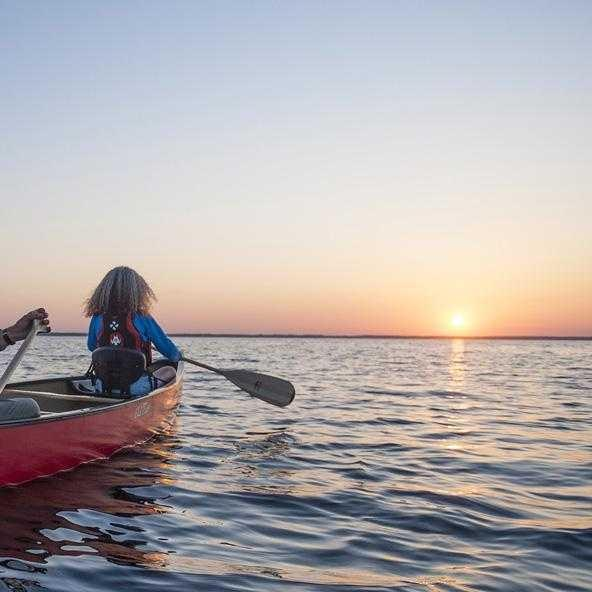kayak: (1, 357, 185, 488)
